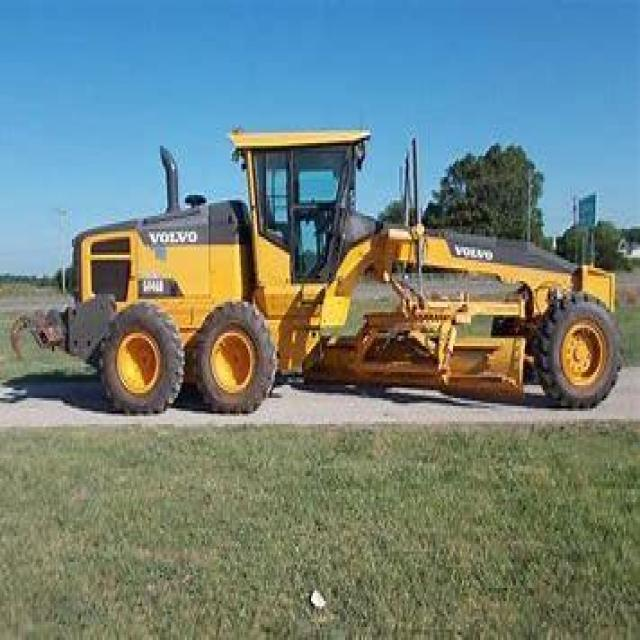buldozerpayloadergrader: (59, 110, 635, 422)
